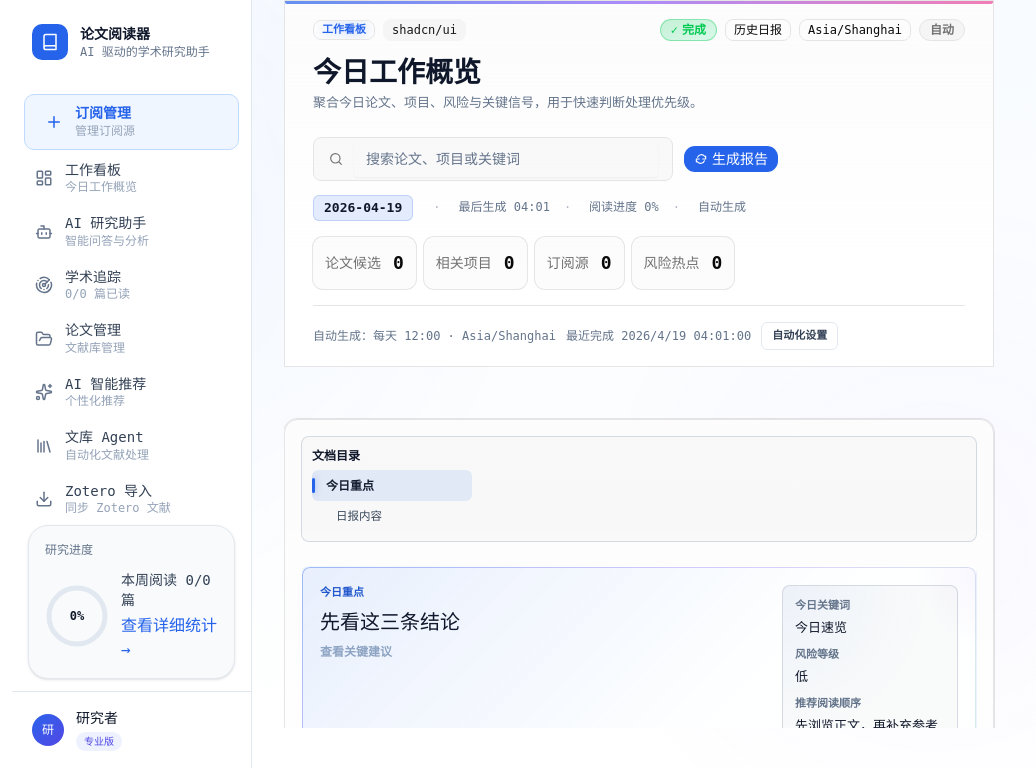
Scenario: 补跑完成但今日日报仍是旧快照时不会误报成功
The image size is (1036, 768).
What coordinates should you click on to do the following:
click the button "生成报告"
I would click on:
 (731, 159)
Its box is [683,145,779,173].
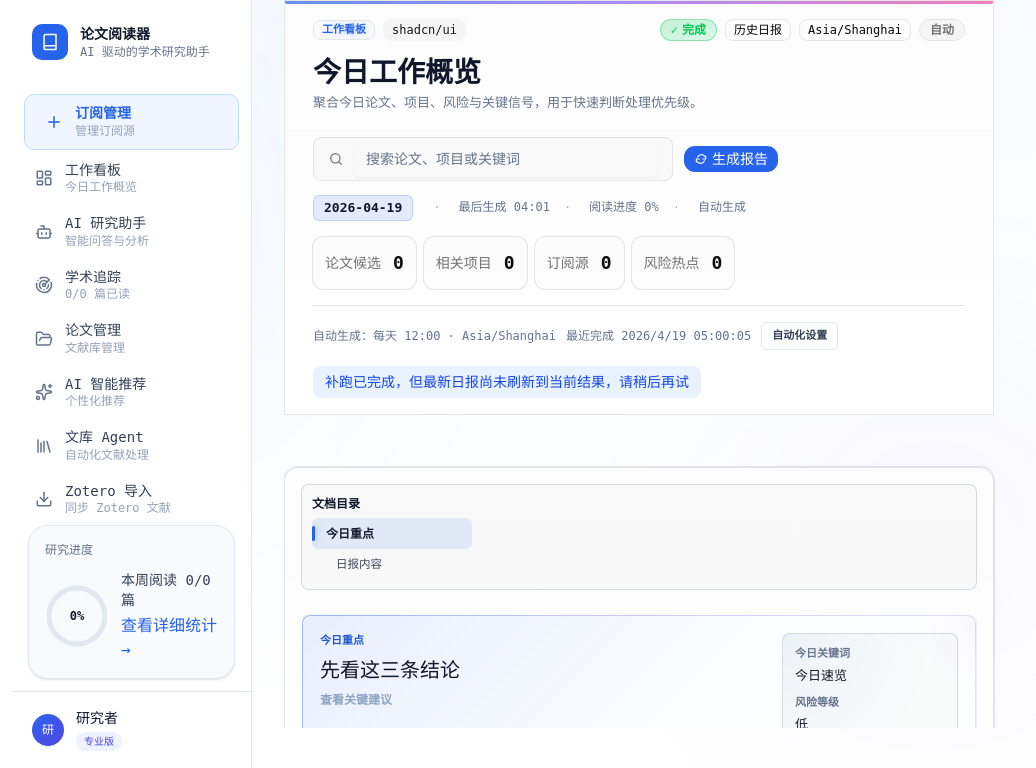
Check: the text "补跑已完成，但最新日报尚未刷新到当前结果，请稍后再试" is shown, box [313,366,701,398]
